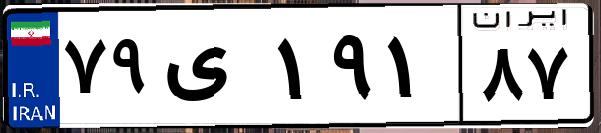1: (270, 28, 330, 110), (385, 28, 445, 110)
7: (57, 26, 110, 100), (525, 38, 570, 115)
8: (475, 38, 525, 113)
9: (330, 28, 385, 110), (110, 28, 158, 98)
ی: (158, 20, 270, 120)
